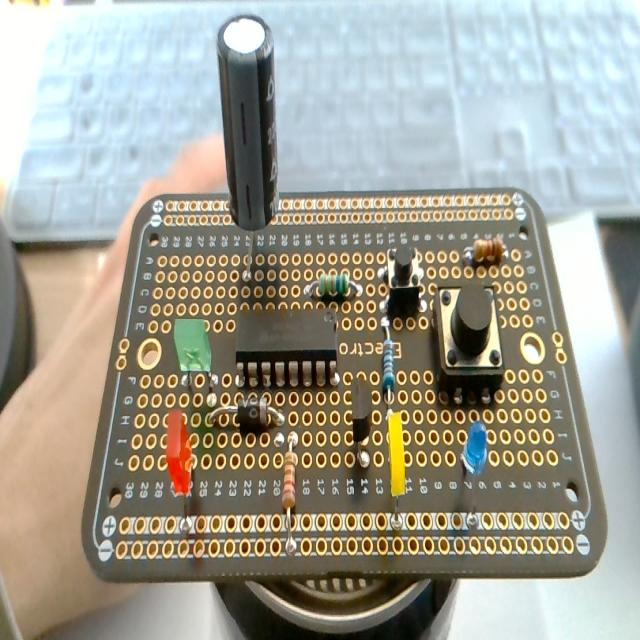Electrolytic capacitor: (219, 15, 279, 299)
IC: (235, 306, 338, 386)
diode: (209, 393, 286, 430)
led: (168, 411, 196, 538), (385, 401, 408, 533), (172, 319, 212, 377), (459, 420, 490, 478)
resistor: (282, 432, 300, 551), (305, 270, 361, 301), (380, 324, 396, 400), (465, 236, 503, 267)
switch: (432, 275, 507, 397), (383, 244, 425, 315)
transistor: (348, 374, 373, 470)
